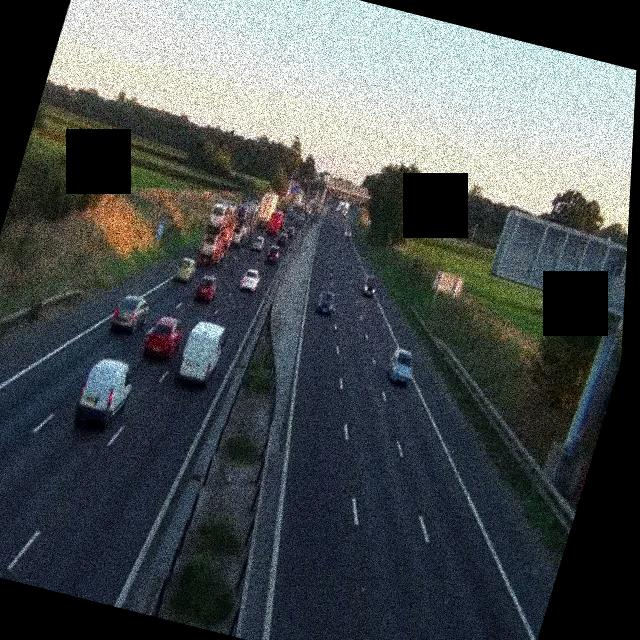car: (71, 353, 137, 432), (140, 312, 187, 363), (109, 291, 153, 336), (382, 346, 419, 386), (172, 254, 198, 284), (193, 273, 219, 303), (314, 288, 338, 316), (237, 267, 262, 292), (359, 274, 379, 298), (264, 246, 281, 266), (250, 234, 267, 252), (277, 230, 291, 247), (343, 226, 353, 238)
truck: (173, 316, 230, 386), (249, 188, 280, 230), (204, 198, 233, 232), (196, 230, 225, 264)
